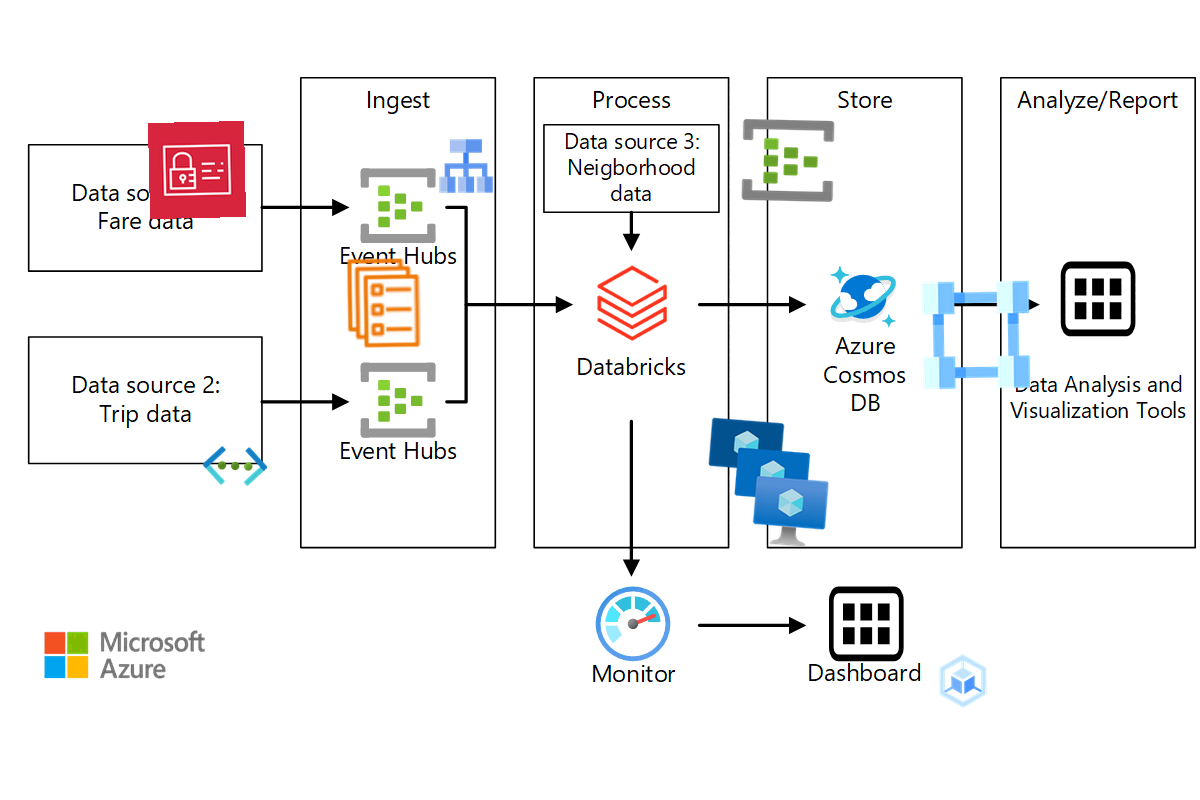aws_elastic_container_service_service: (335, 254, 433, 352)
aws_identity_and_access_management: (147, 120, 247, 220)
azure_event_hubs: (738, 110, 838, 210)
azure_virtual_networks: (201, 432, 269, 500)
azure_vm_scale_sets: (697, 411, 835, 549)
gcp_cloud_load_balancing: (433, 133, 499, 199)
gcp_google_kubernetes_engine: (930, 648, 996, 714)
gcp_virtual_private_cloud: (911, 270, 1041, 400)
